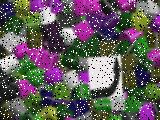Left: (88, 55, 123, 100)
